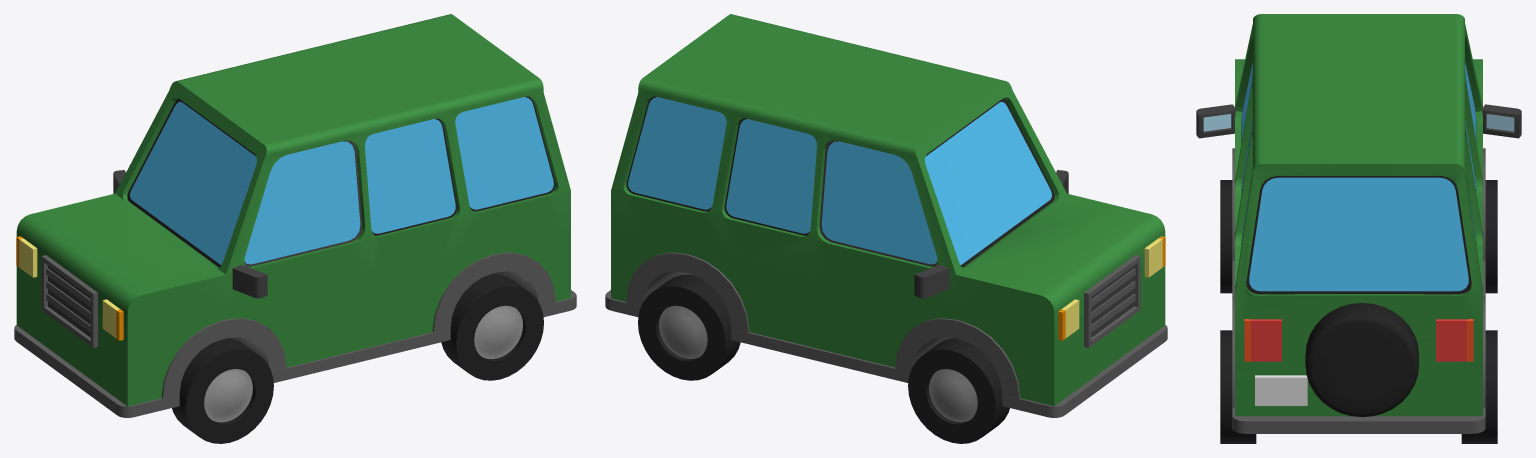
Rendered from sport_utility_vehicle.glb.
The picture shows the model from 3 angles, left to right: view 1: azimuth 30°, elevation 25°; view 2: azimuth 150°, elevation 25°; view 3: azimuth 270°, elevation 25°; orthographic projection. The views are drawn at different scales.
Visible parts, largest first — view 1: Cube.693; view 2: Cube.693; view 3: Cube.693.
Part boxes in pixels (x1,y1,x2,y2): Cube.693: (14,14,576,443); Cube.693: (605,14,1167,443); Cube.693: (1196,14,1521,443).
Size of the model in its own units: 2.26 by 1.24 by 1.19.
1 material, 1 textured.
